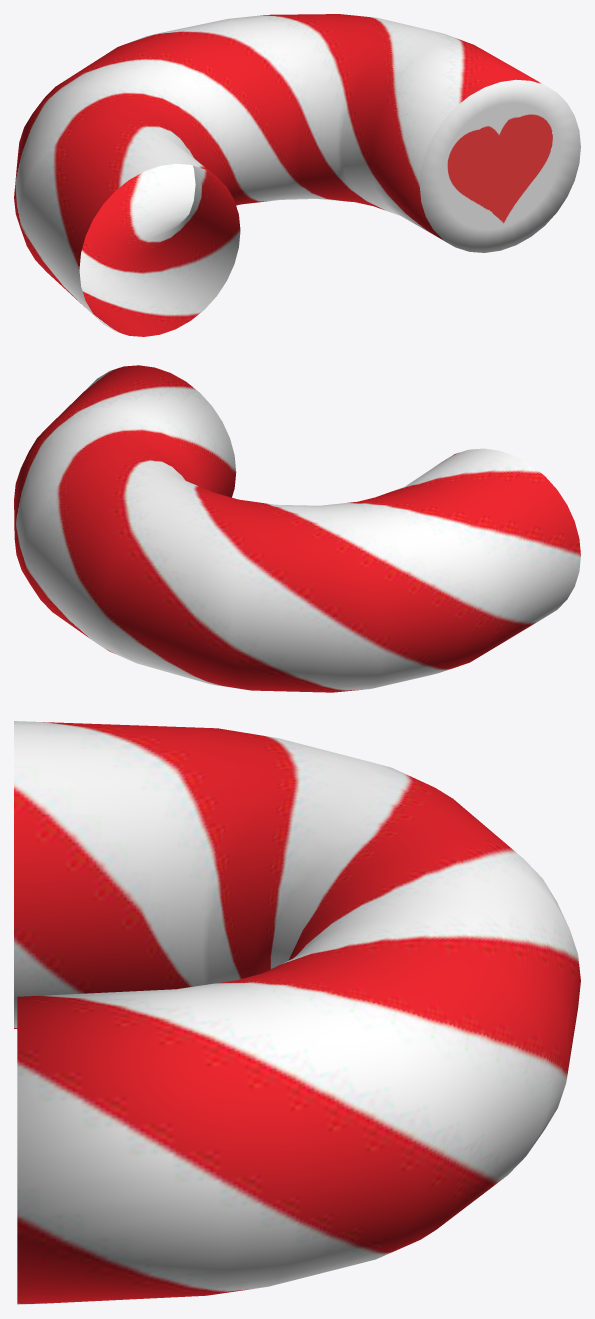
File: CandyCane (1).fbx
3 views of the same model, one above another, from view 1: azimuth 30°, elevation 25°; view 2: azimuth 150°, elevation 25°; view 3: azimuth 270°, elevation 25° (orthographic). The views are drawn at different scales.
Parts seen in each view (by area): view 1: CandyCane; view 2: CandyCane; view 3: CandyCane.
Part boxes in pixels (x1,y1,x2,y2): CandyCane: [14, 14, 580, 336]; CandyCane: [14, 365, 580, 692]; CandyCane: [14, 721, 580, 1304].
Bounding box in the file's own units: 4.36 × 1.4 × 2.57.
